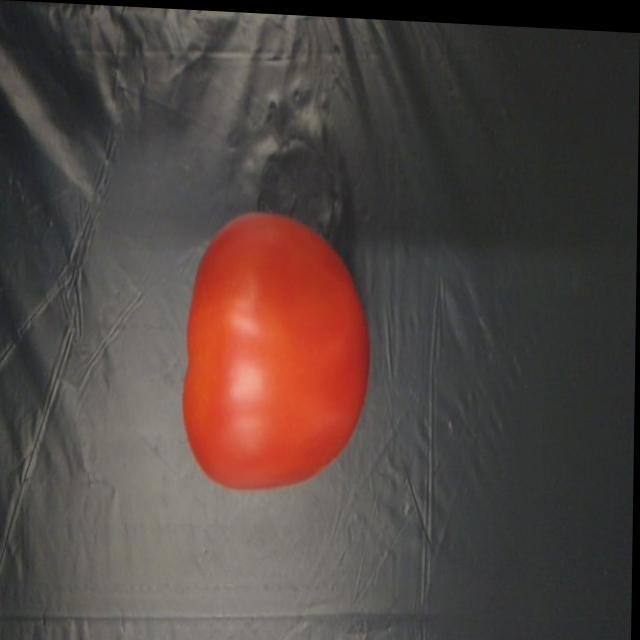kirmizi: (177, 183, 386, 509)
